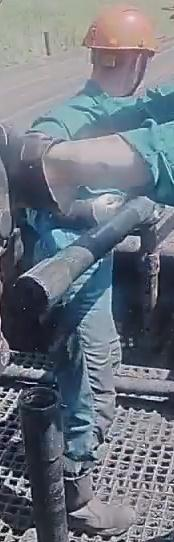gloves: (0, 121, 77, 224), (82, 191, 163, 234)
helmet: (79, 3, 162, 57)
vest: (27, 101, 133, 298)
